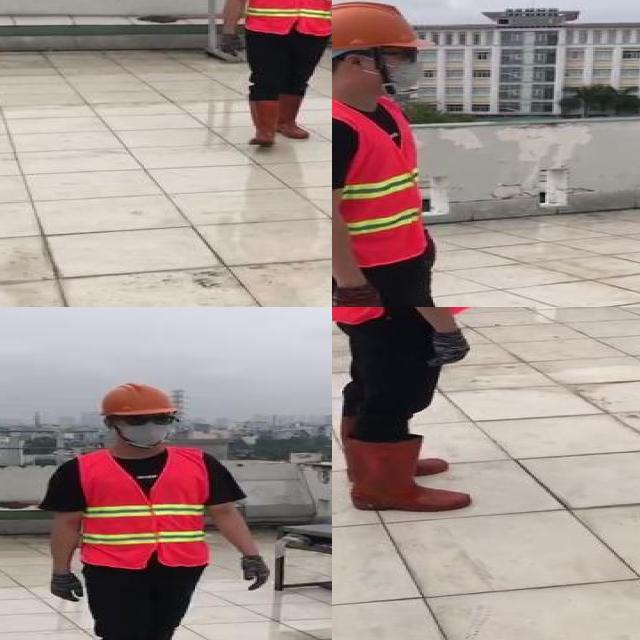boots: (341, 434, 473, 512), (281, 97, 309, 141), (252, 100, 278, 146)
face_mask: (369, 44, 431, 92), (115, 410, 177, 446)
glasses: (115, 410, 183, 430), (388, 45, 422, 64)
hand_glove: (427, 328, 472, 371), (240, 553, 272, 591), (50, 574, 88, 603), (332, 287, 383, 307), (217, 32, 245, 57), (430, 233, 440, 263)
head_helmet: (332, 0, 436, 54), (94, 380, 180, 420)
person: (332, 0, 546, 307), (34, 373, 280, 640), (332, 307, 487, 524), (212, 0, 332, 153)
vest: (76, 449, 211, 569), (332, 102, 426, 265), (249, 0, 332, 35)
